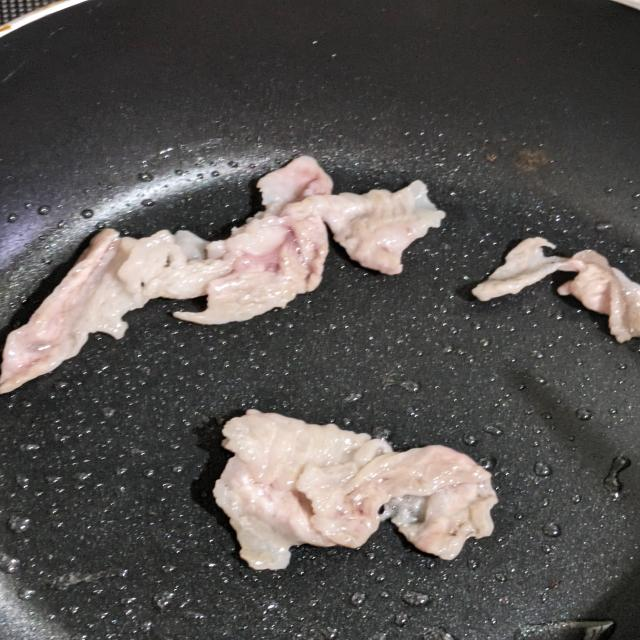NG undercooked pork,: (3, 140, 458, 408), (192, 396, 514, 583), (456, 226, 640, 354)
